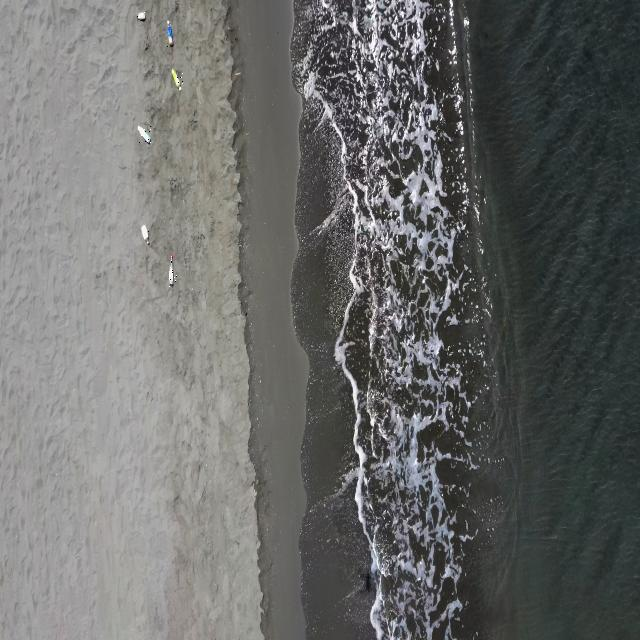Garbage: (136, 124, 150, 143), (172, 68, 180, 89), (141, 224, 148, 243), (168, 253, 172, 286), (167, 20, 172, 45), (136, 11, 144, 20)
